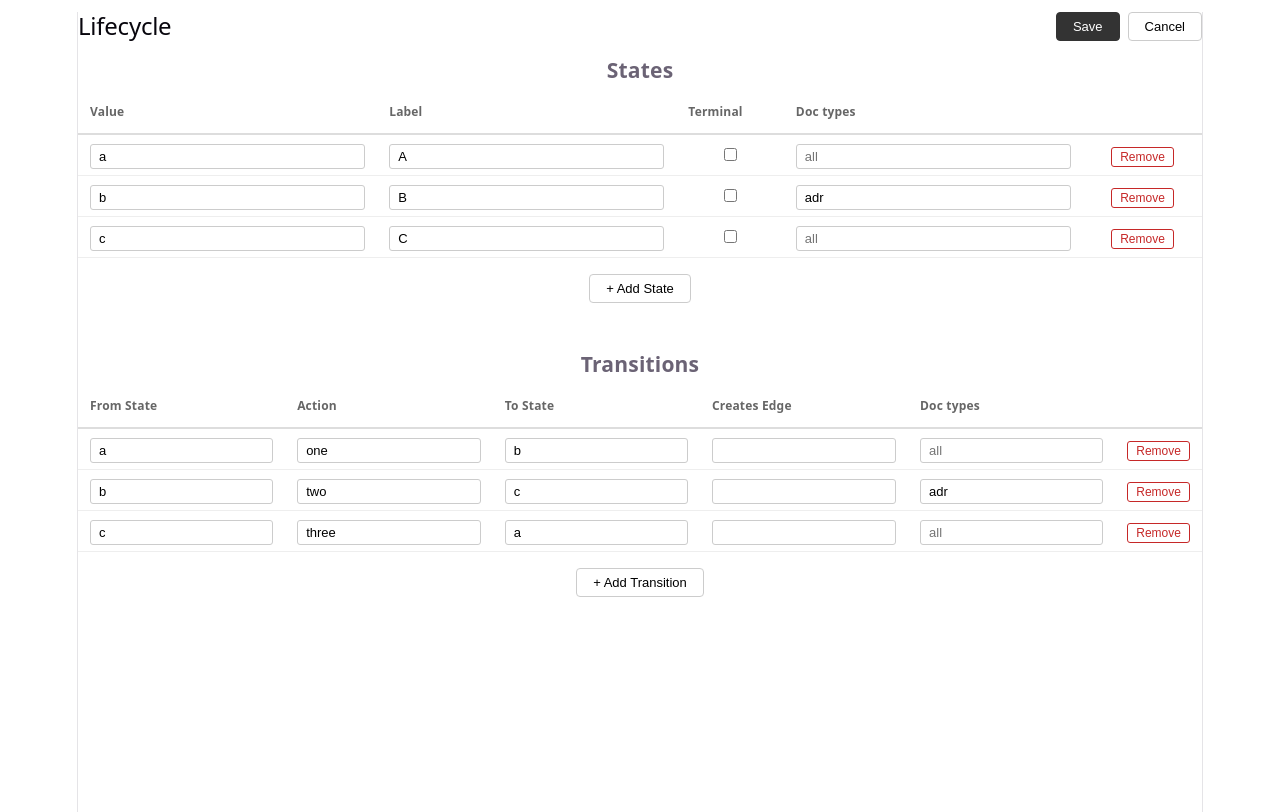
Test: Settings editors — draft resync when a fresh prop arrives › LifecycleEditor doc_type scope › keeps edited scope text on its own row when a row above is removed
This screenshot has width=1280, height=812.
Type "ticket" into the field named "Doc types for state 3".
click(933, 239); type("ticket")  # box [796,226,1071,251]
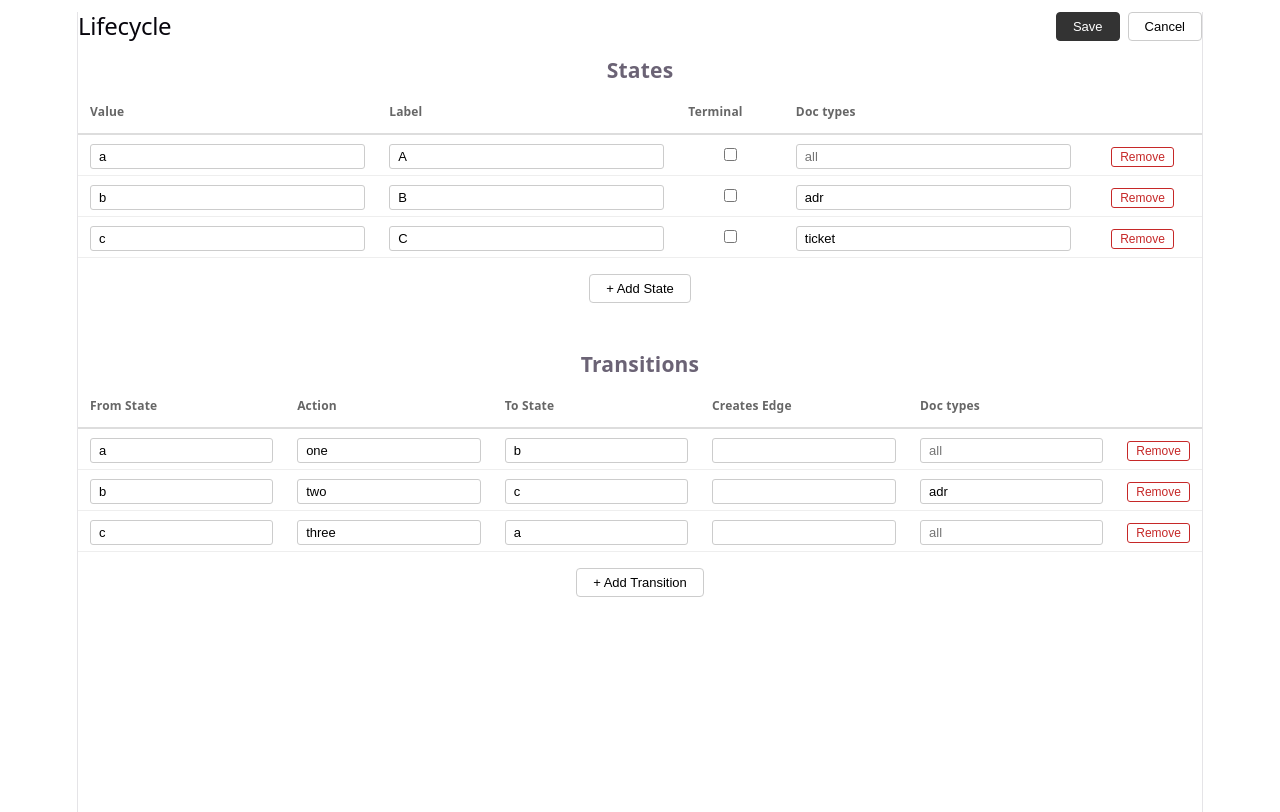
Type "ticket" into the field named "Doc types for transition 3".
click(1012, 533); type("ticket")  # box [920,520,1103,545]
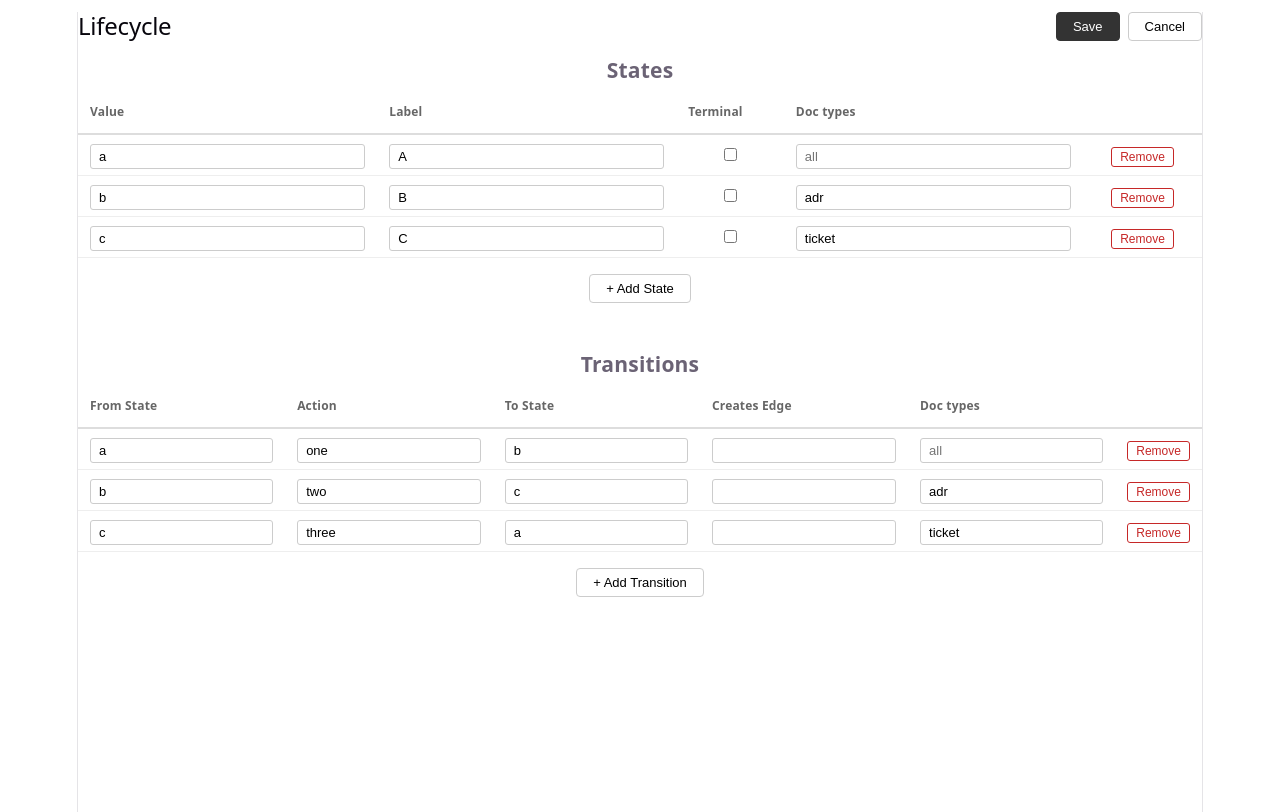
Click the 1st button "Remove".
click(1143, 157)  # box [1111,147,1174,167]
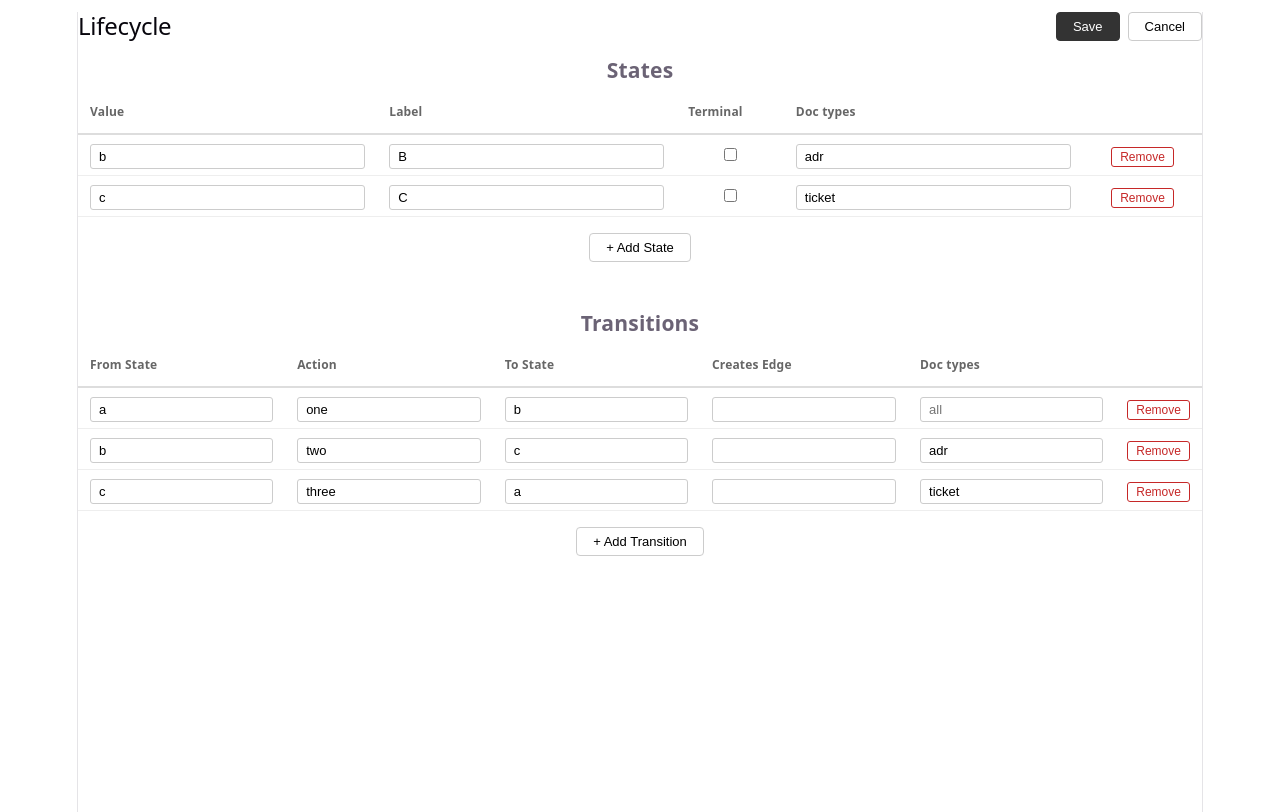
Click the 3rd button "Remove".
click(1159, 410)  # box [1127,400,1190,420]
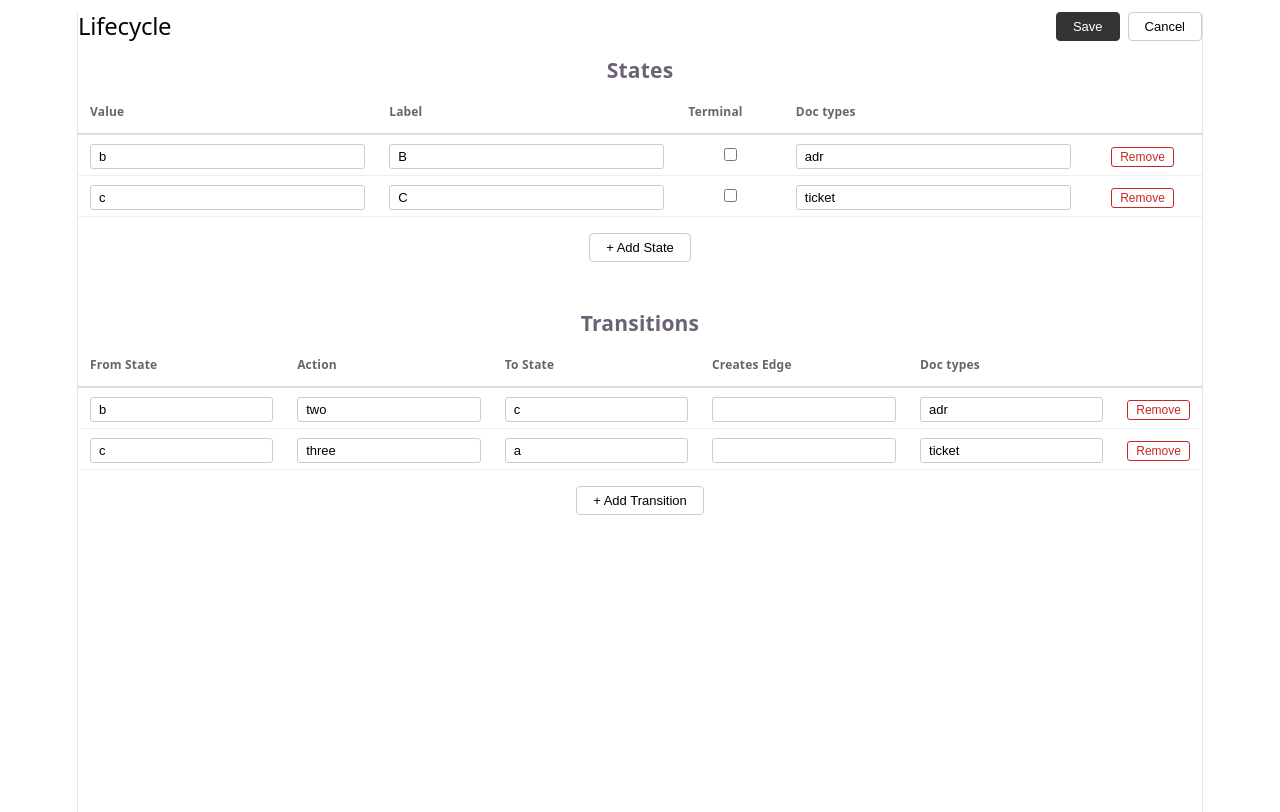
Result: the field named "Doc types for state 1" holds "adr" at [796,144,1071,169]
Result: the field named "Doc types for state 2" holds "ticket" at [796,185,1071,210]
Result: the field named "Doc types for transition 1" holds "adr" at [920,397,1103,422]
